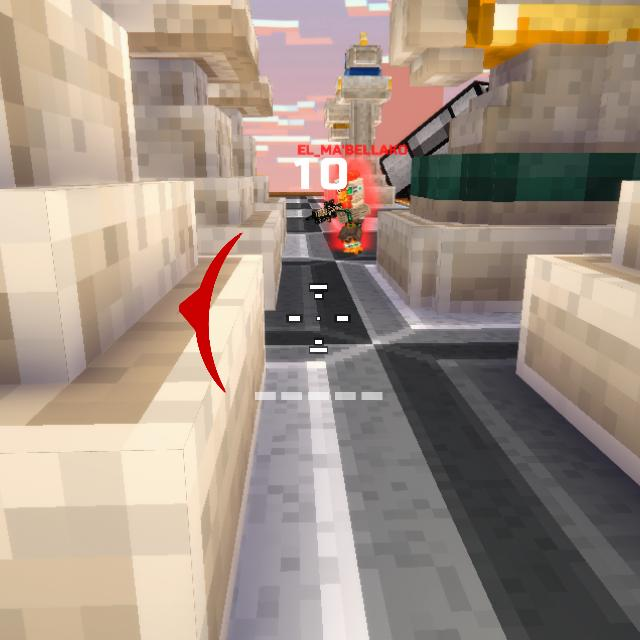Enemy: (334, 178, 370, 253)
